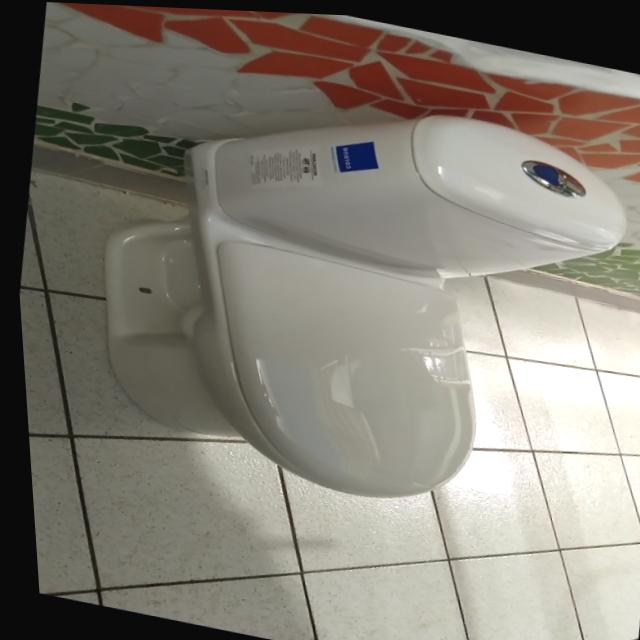toilet: (61, 44, 640, 542)
